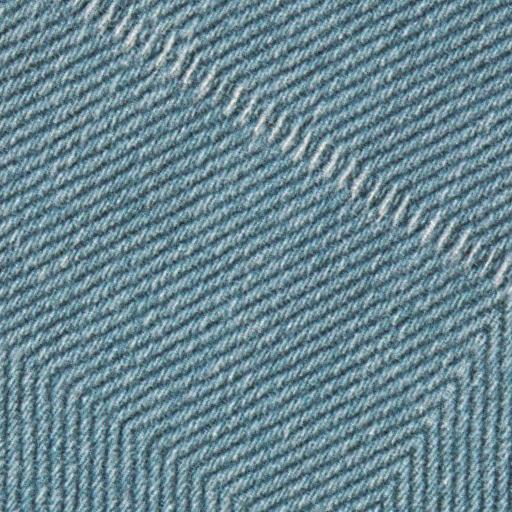slub: (68, 2, 512, 298)
